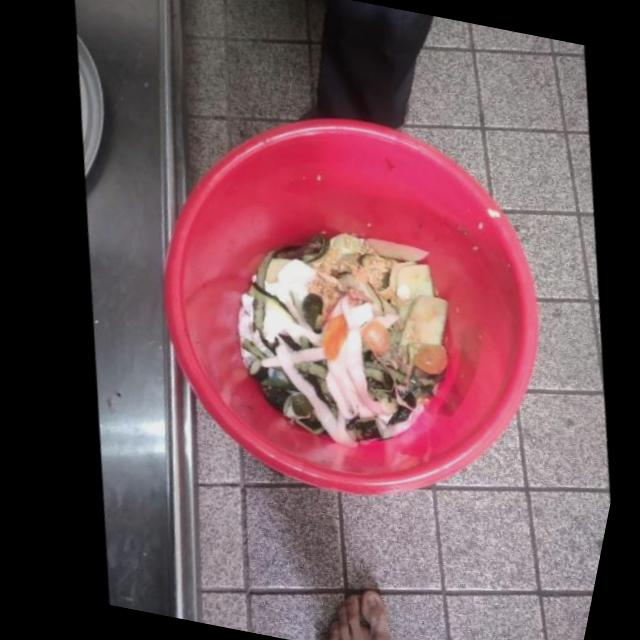vo_rau_cu: (267, 343, 349, 445), (317, 303, 374, 418), (384, 294, 442, 382), (256, 294, 341, 347), (242, 246, 291, 324), (382, 263, 428, 330), (366, 398, 416, 437), (271, 257, 312, 301), (331, 272, 377, 311), (355, 237, 424, 260), (312, 313, 342, 361), (252, 345, 316, 366), (390, 375, 432, 401), (359, 377, 389, 412), (407, 343, 441, 373), (354, 320, 382, 352), (294, 293, 316, 328), (337, 418, 373, 438), (254, 385, 284, 407), (357, 365, 383, 388), (354, 313, 392, 328), (288, 361, 321, 378), (379, 403, 403, 423), (241, 357, 261, 381), (283, 393, 304, 415), (344, 301, 366, 322), (289, 416, 318, 428), (394, 390, 408, 409)
